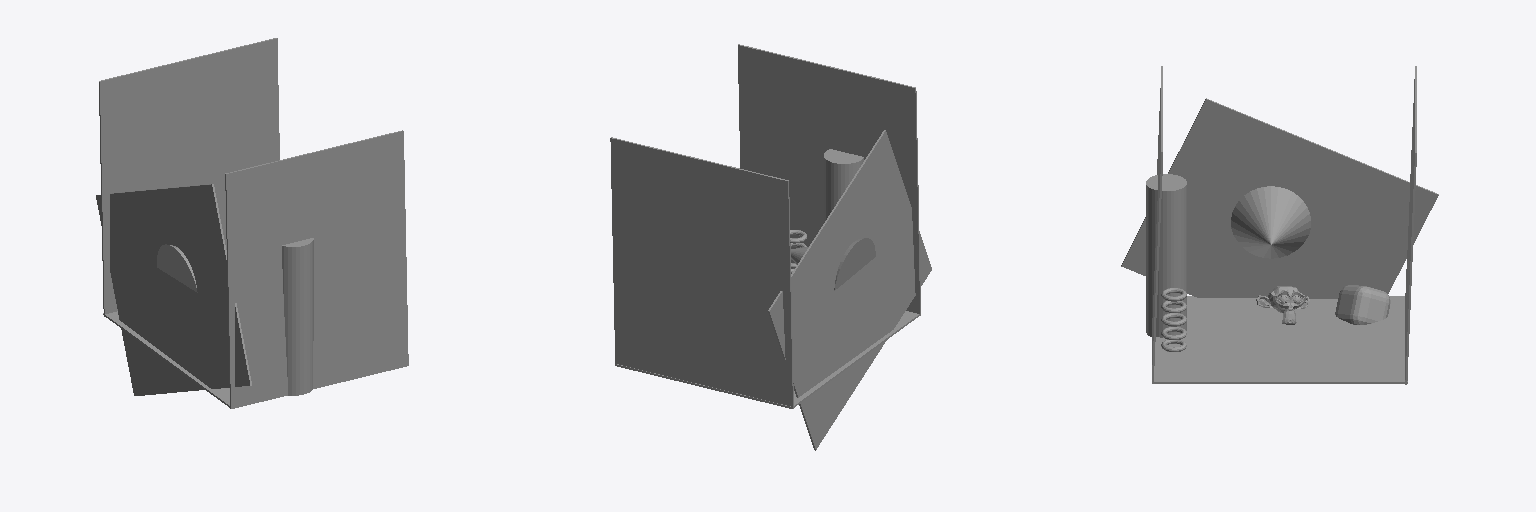
Rendered from reftex.obj.
3 views of the same model, side by side, from view 1: azimuth 30°, elevation 25°; view 2: azimuth 150°, elevation 25°; view 3: azimuth 270°, elevation 25° (orthographic).
Visible parts, largest first — view 1: Cube.006, Cube.005, Cube.003_Cube.000, Cylinder.001, Cone.001, Cube.004; view 2: Cube.005, Cube.003_Cube.000, Cube.006, Cylinder.001, Cube.004, Cone.001; view 3: Cube.003_Cube.000, Cube.004, Cylinder.001, Cone.001, Mball.001, Cube.005, Cube.006, Suzanne.004.
Part boxes in pixels (bbox=[...]): Cube.006: bbox=[225, 130, 408, 408]; Cube.005: bbox=[99, 38, 279, 316]; Cube.003_Cube.000: bbox=[96, 184, 251, 395]; Cylinder.001: bbox=[282, 238, 313, 395]; Cone.001: bbox=[157, 244, 197, 292]; Cube.004: bbox=[103, 311, 229, 407]; Cube.005: bbox=[610, 137, 793, 408]; Cube.003_Cube.000: bbox=[768, 130, 931, 450]; Cube.006: bbox=[738, 44, 920, 315]; Cylinder.001: bbox=[824, 149, 863, 222]; Cube.004: bbox=[615, 311, 919, 408]; Cone.001: bbox=[791, 238, 875, 290]; Cube.003_Cube.000: bbox=[1121, 98, 1438, 298]; Cube.004: bbox=[1152, 296, 1407, 383]; Cylinder.001: bbox=[1146, 174, 1186, 337]; Cone.001: bbox=[1231, 186, 1310, 258]; Mball.001: bbox=[1335, 285, 1390, 324]; Cube.005: bbox=[1405, 66, 1416, 384]; Cube.006: bbox=[1152, 66, 1162, 381]; Suzanne.004: bbox=[1256, 286, 1309, 324].
Size of the model in its own units: 20.06 by 31.59 by 30.97.